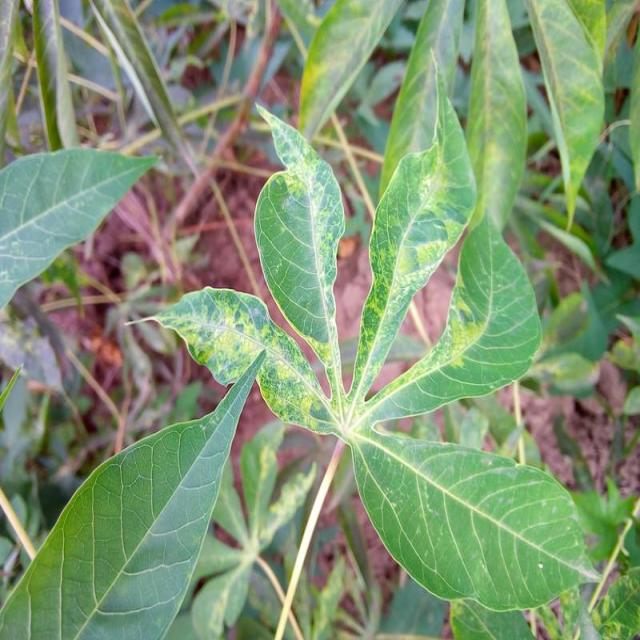cassava leaf: (0, 347, 266, 638), (350, 421, 600, 614), (347, 55, 478, 415), (0, 144, 158, 310), (252, 100, 346, 347)
